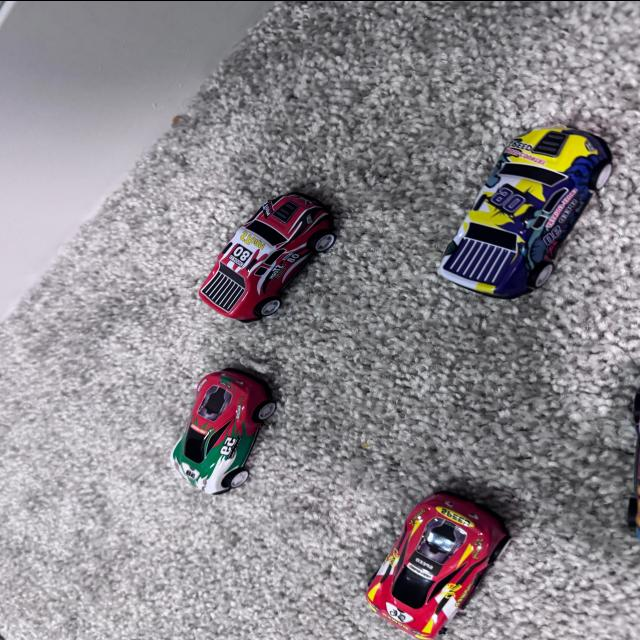Car: (157, 138, 355, 346), (468, 112, 633, 304), (341, 485, 508, 640), (150, 348, 280, 484)
